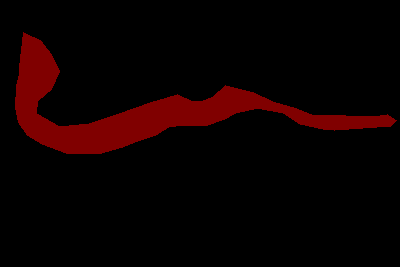fire: (15, 32, 396, 153)
